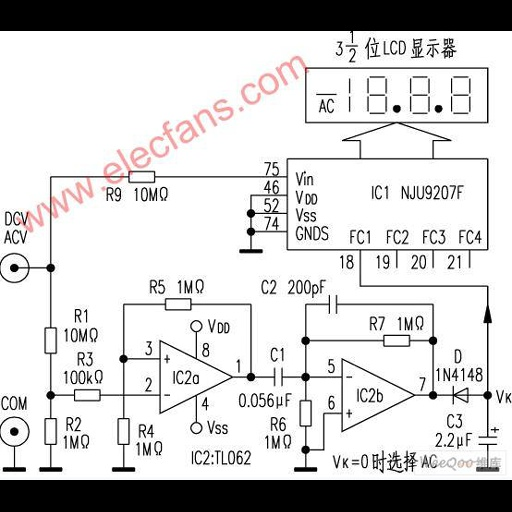amplifier: (156, 338, 234, 417), (339, 357, 416, 434)
capacitor: (322, 293, 347, 316), (268, 364, 289, 388)
firstpolarcapacitor: (474, 426, 503, 448)
firstresistance: (39, 414, 59, 452), (110, 417, 132, 449), (124, 167, 159, 187), (68, 387, 109, 404), (40, 323, 59, 359), (380, 332, 412, 351), (297, 397, 314, 430), (162, 296, 194, 313)
seconddiode: (447, 384, 474, 406)
